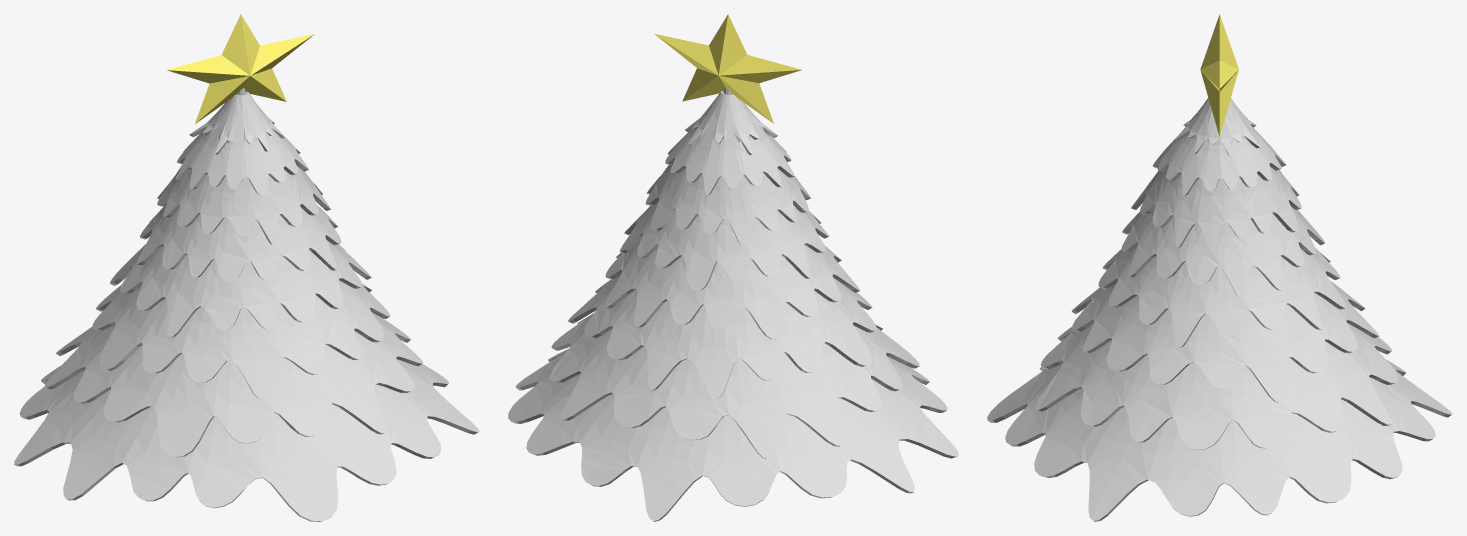
File: sh-bsby-arbolito.glb
3 views of the same model, side by side, from view 1: azimuth 30°, elevation 25°; view 2: azimuth 150°, elevation 25°; view 3: azimuth 270°, elevation 25° (orthographic).
Parts seen in each view (by area): view 1: Circle.001, Circle.002; view 2: Circle.001, Circle.002; view 3: Circle.001, Circle.002.
Boxes of the visible parts, x1,y1,x2,y2 form: Circle.001: (14,91,479,521); Circle.002: (166,14,314,123); Circle.001: (508,91,958,521); Circle.002: (654,14,801,123); Circle.001: (987,98,1452,521); Circle.002: (1200,14,1238,136).
Size of the model in its own units: 1 by 1 by 1.
